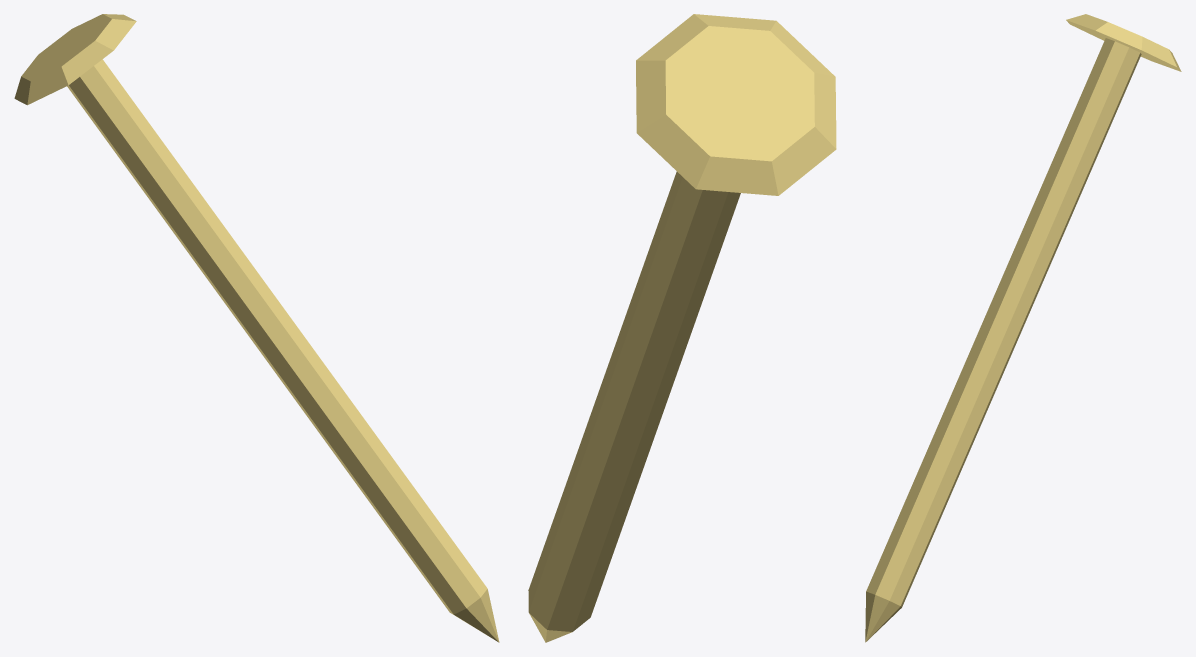
3 views of the same model, side by side, from view 1: azimuth 30°, elevation 25°; view 2: azimuth 150°, elevation 25°; view 3: azimuth 270°, elevation 25° (orthographic). The views are drawn at different scales.
Visible parts, largest first — view 1: Circle.004; view 2: Circle.004; view 3: Circle.004.
Boxes of the visible parts, x1=… form: Circle.004: x1=14, y1=14, x2=499, y2=642; Circle.004: x1=528, y1=14, x2=836, y2=642; Circle.004: x1=865, y1=14, x2=1181, y2=642.
Bounding box in the file's own units: 0.6049 × 1.01 × 0.5613.
